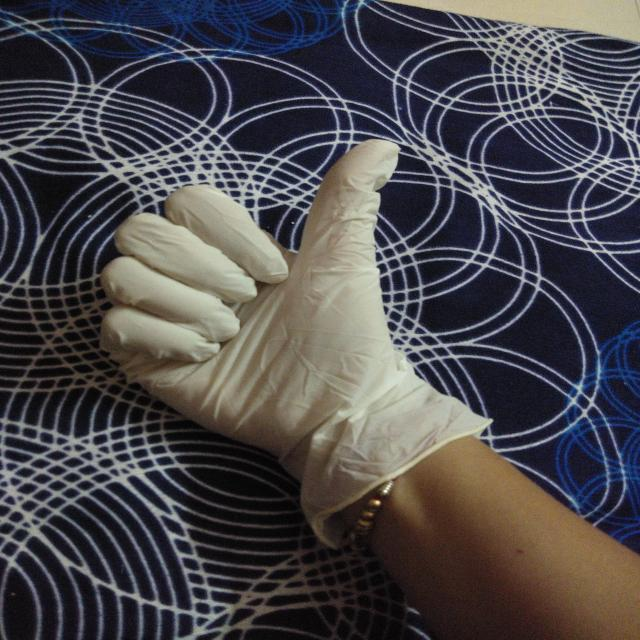glove_hand: (91, 132, 498, 550)
